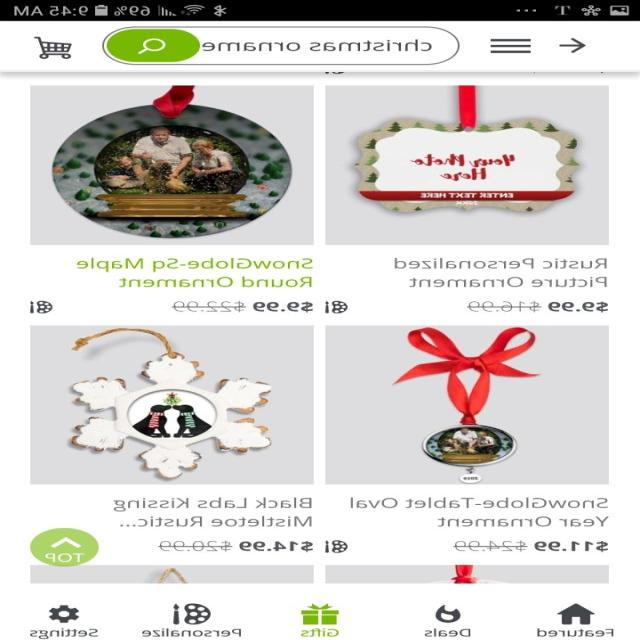EditText: (103, 26, 461, 66)
Icon: (106, 29, 200, 61), (35, 36, 73, 60), (558, 603, 596, 625), (174, 603, 212, 625), (302, 603, 339, 625), (49, 604, 81, 623), (489, 39, 532, 53), (436, 604, 462, 623), (559, 38, 587, 53), (31, 300, 54, 314), (326, 540, 350, 553), (326, 300, 348, 314)
Image: (325, 325, 609, 484), (325, 86, 609, 244), (32, 86, 314, 245), (32, 325, 314, 484), (325, 564, 609, 583), (32, 564, 314, 583), (31, 528, 100, 566)
Text: (350, 496, 609, 527), (77, 257, 314, 287), (394, 257, 608, 287), (114, 497, 313, 527), (203, 39, 433, 52), (453, 540, 609, 552), (158, 540, 313, 552), (172, 300, 314, 313), (467, 300, 609, 313), (142, 628, 243, 636), (31, 628, 99, 638), (536, 628, 614, 636), (424, 628, 471, 636), (302, 628, 339, 636)
